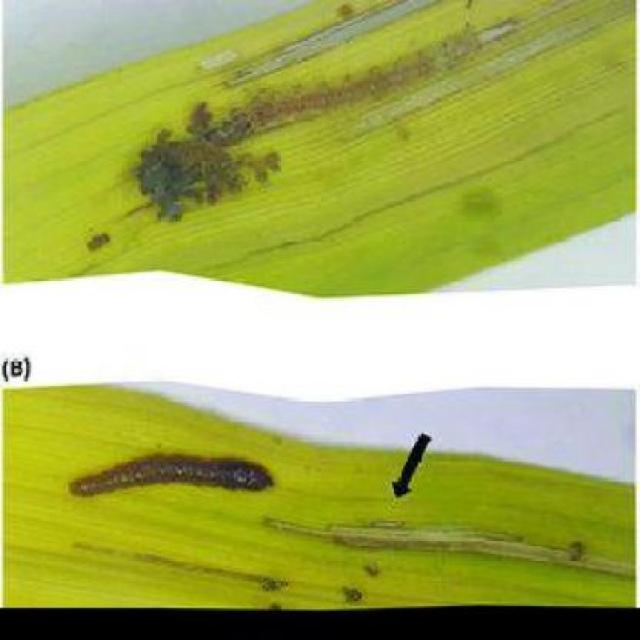leaf-folder: (121, 97, 253, 214), (80, 430, 274, 505), (279, 74, 435, 128), (368, 511, 419, 546)
